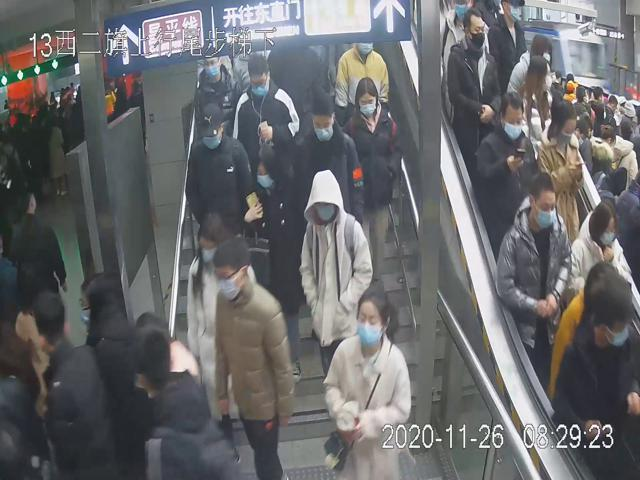person: (209, 232, 296, 480), (319, 280, 410, 480), (187, 212, 256, 468), (495, 167, 572, 394), (293, 167, 374, 382), (241, 144, 306, 383), (338, 79, 406, 279), (187, 102, 258, 275), (290, 92, 368, 236), (445, 4, 504, 173), (474, 88, 536, 241), (230, 49, 300, 160)
